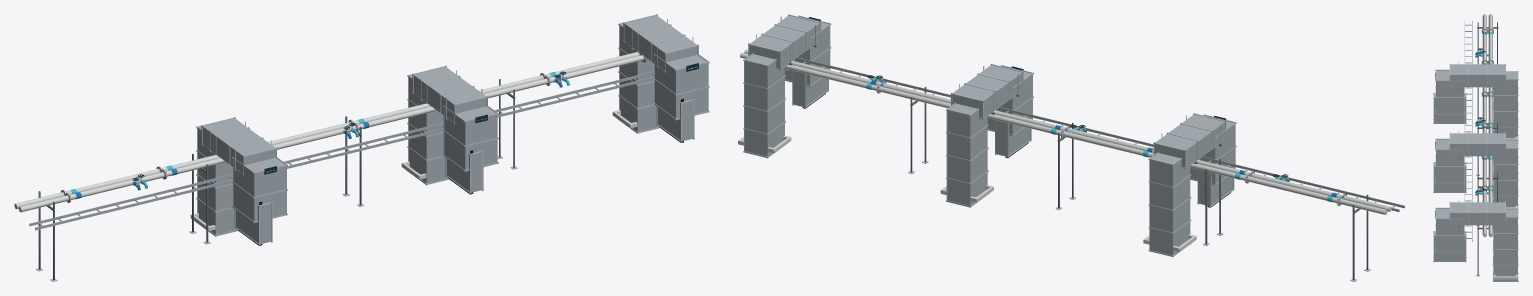
File: fab1-hvac-north.glb
The picture shows the model from 3 angles, left to right: view 1: azimuth 30°, elevation 25°; view 2: azimuth 150°, elevation 25°; view 3: azimuth 270°, elevation 25°; orthographic projection. The views are drawn at different scales.
Parts seen in each view (by area): view 1: FAB1_HVAC_north_CHWS, FAB1_HVAC_north_Riser_1, FAB1_HVAC_north_Riser_2, FAB1_HVAC_north_Riser_0, FAB1_HVAC_north_Overhead_2, FAB1_HVAC_north_Overhead_0, FAB1_HVAC_north_Overhead_1, FAB1_HVAC_north_Downfeed_1, FAB1_HVAC_north_Downfeed_2, FAB1_HVAC_north_CHWR, FAB1_HVAC_north_Downfeed_0, FAB1_HVAC_north_CableRail_8.5 (+4 smaller); view 2: FAB1_HVAC_north_Downfeed_1, FAB1_HVAC_north_Downfeed_0, FAB1_HVAC_north_Downfeed_2, FAB1_HVAC_north_CHWR, FAB1_HVAC_north_Overhead_0, FAB1_HVAC_north_Overhead_2, FAB1_HVAC_north_CHWS, FAB1_HVAC_north_Overhead_1, FAB1_HVAC_north_CableRail_8.0, FAB1_HVAC_north_Riser_1, FAB1_HVAC_north_Riser_0, FAB1_HVAC_north_Riser_2 (+3 smaller); view 3: FAB1_HVAC_north_Downfeed_2, FAB1_HVAC_north_Downfeed_0, FAB1_HVAC_north_Downfeed_1, FAB1_HVAC_north_Overhead_2, FAB1_HVAC_north_Overhead_0, FAB1_HVAC_north_Overhead_1, FAB1_HVAC_north_Riser_1, FAB1_HVAC_north_Riser_2, FAB1_HVAC_north_Riser_0, FAB1_HVAC_north_CHWR, FAB1_HVAC_north_CHWS, FAB1_HVAC_north_Outlet_2 (+8 smaller).
Part boxes in pixels (<box>): FAB1_HVAC_north_CHWS: <box>18,55,647,212</box>; FAB1_HVAC_north_Riser_1: <box>443,105,498,171</box>; FAB1_HVAC_north_Riser_2: <box>654,54,709,120</box>; FAB1_HVAC_north_Riser_0: <box>232,157,287,223</box>; FAB1_HVAC_north_Overhead_2: <box>623,14,699,72</box>; FAB1_HVAC_north_Overhead_0: <box>201,117,277,175</box>; FAB1_HVAC_north_Overhead_1: <box>412,65,488,124</box>; FAB1_HVAC_north_Downfeed_1: <box>407,69,449,185</box>; FAB1_HVAC_north_Downfeed_2: <box>618,22,659,133</box>; FAB1_HVAC_north_CHWR: <box>14,52,639,209</box>; FAB1_HVAC_north_Downfeed_0: <box>196,125,237,236</box>; FAB1_HVAC_north_CableRail_8.5: <box>29,71,654,226</box>; FAB1_HVAC_north_Downfeed_1: <box>946,102,988,207</box>; FAB1_HVAC_north_Downfeed_0: <box>1148,152,1191,257</box>; FAB1_HVAC_north_Downfeed_2: <box>743,53,785,158</box>; FAB1_HVAC_north_CHWR: <box>740,52,1387,214</box>; FAB1_HVAC_north_Overhead_0: <box>1153,113,1226,169</box>; FAB1_HVAC_north_Overhead_2: <box>748,14,821,70</box>; FAB1_HVAC_north_CHWS: <box>744,49,1391,211</box>; FAB1_HVAC_north_Overhead_1: <box>950,63,1023,119</box>; FAB1_HVAC_north_CableRail_8.0: <box>795,57,1404,208</box>; FAB1_HVAC_north_Riser_1: <box>987,65,1033,136</box>; FAB1_HVAC_north_Riser_0: <box>1190,114,1236,185</box>; FAB1_HVAC_north_Riser_2: <box>785,15,831,86</box>; FAB1_HVAC_north_Downfeed_2: <box>1492,209,1518,281</box>; FAB1_HVAC_north_Downfeed_0: <box>1493,71,1518,143</box>; FAB1_HVAC_north_Downfeed_1: <box>1493,140,1518,212</box>; FAB1_HVAC_north_Overhead_2: <box>1449,201,1505,225</box>; FAB1_HVAC_north_Overhead_0: <box>1449,63,1505,87</box>; FAB1_HVAC_north_Overhead_1: <box>1449,132,1505,156</box>; FAB1_HVAC_north_Riser_1: <box>1435,138,1464,183</box>; FAB1_HVAC_north_Riser_2: <box>1435,207,1464,252</box>; FAB1_HVAC_north_Riser_0: <box>1435,69,1464,114</box>; FAB1_HVAC_north_CHWR: <box>1488,14,1492,236</box>; FAB1_HVAC_north_CHWS: <box>1482,14,1486,236</box>; FAB1_HVAC_north_Outlet_2: <box>1433,231,1466,261</box>.
Bounding box in the file's own units: 35 × 5.36 × 5.73.
Materials: 1 (1 with a texture image).
